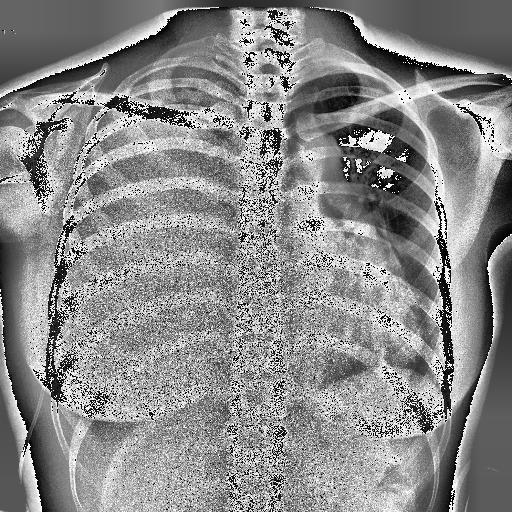10- Pleural effusion: (66, 48, 258, 402), (58, 64, 248, 400), (54, 50, 244, 358)
